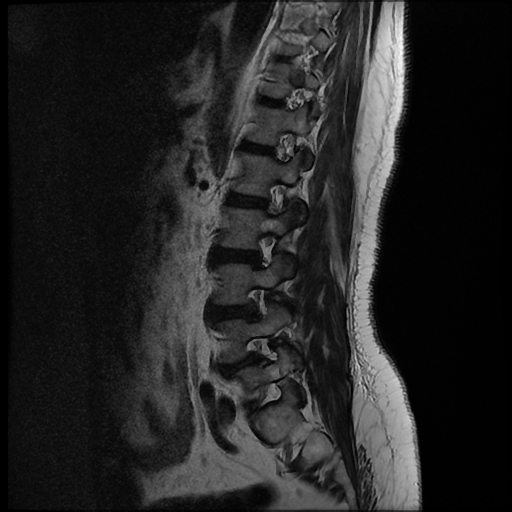LFS0: (251, 175, 300, 225), (235, 276, 283, 326), (233, 329, 283, 375), (243, 225, 284, 275)
